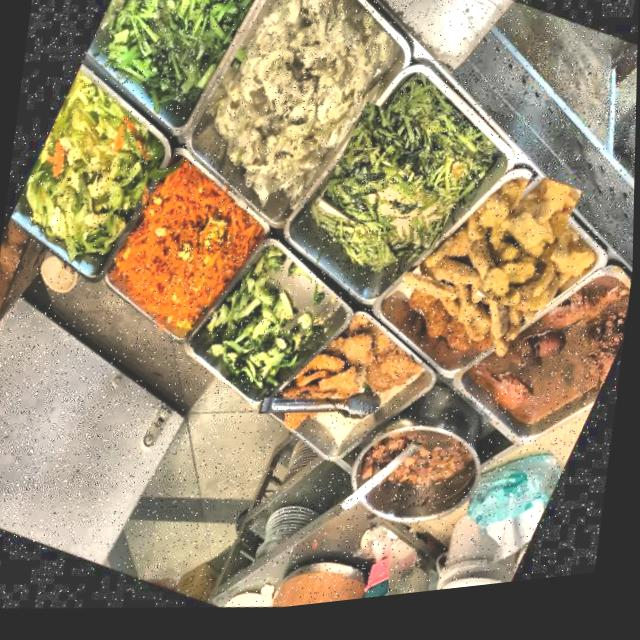Food: (204, 0, 393, 212), (313, 92, 485, 276), (109, 166, 261, 339), (464, 185, 594, 324), (354, 346, 425, 413)
